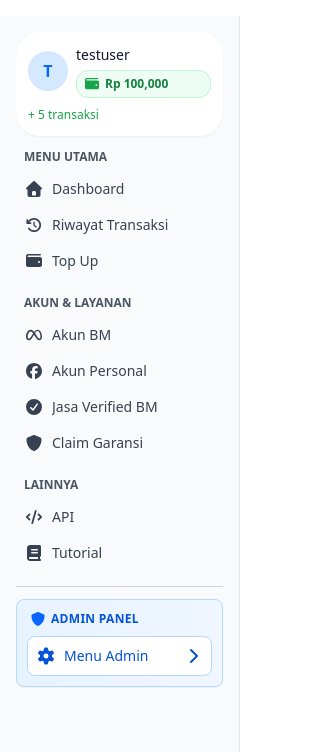
Test: Sidebar Navigation - URL Duplication Fix › Admin Navigation - URL Duplication Prevention › should toggle admin dropdown when clicked
The width and height of the screenshot is (320, 752).
Expected: the text "Dashboard Admin" is not shown
// Click to open dropdown
Click the button "Menu Admin".
click(120, 656)  # box [27,636,212,676]
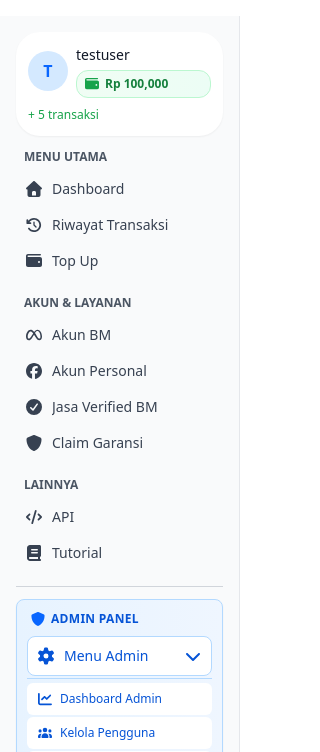
Expected: the text "Dashboard Admin" is shown, [60,690,162,708]
